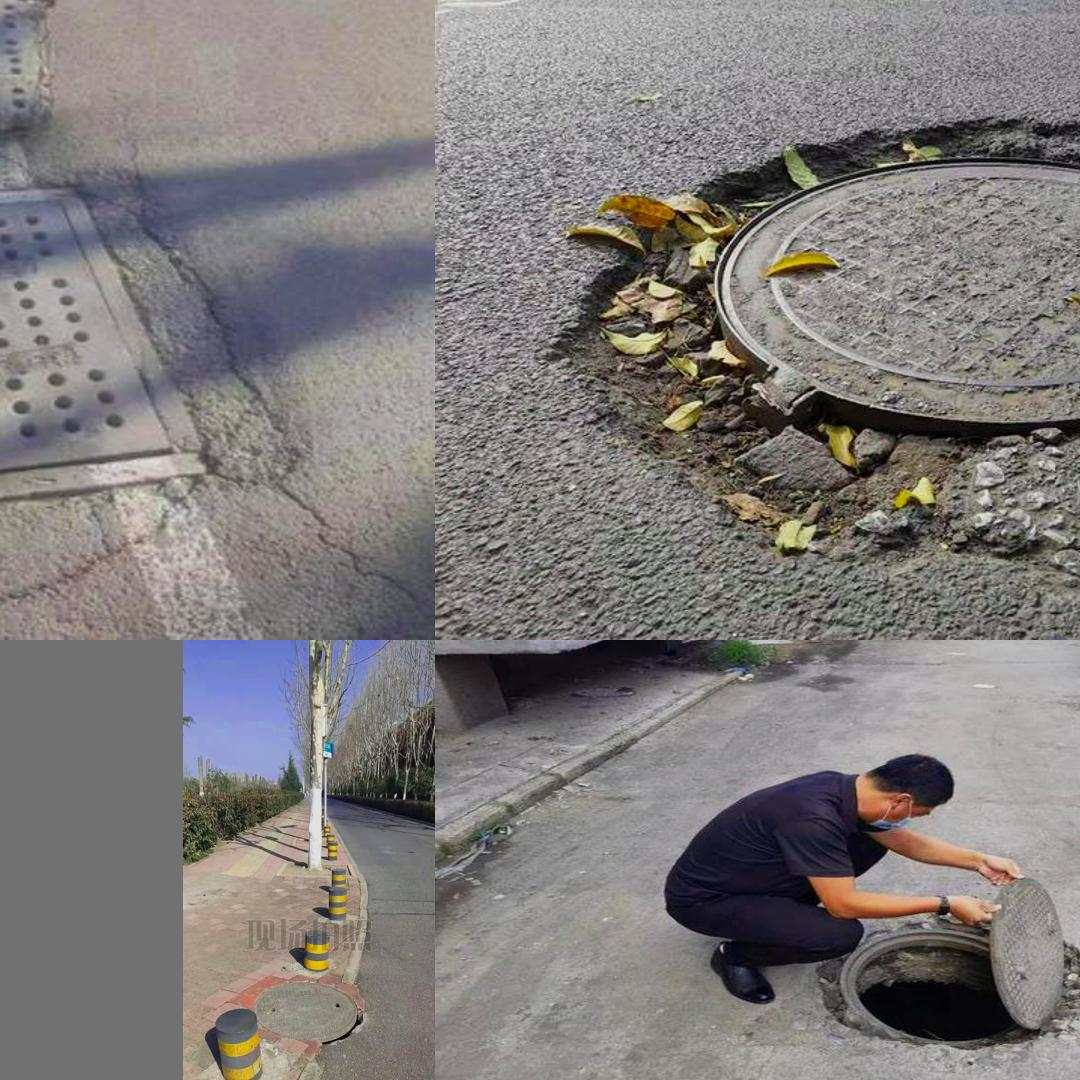circle: (570, 116, 1080, 564), (0, 148, 313, 605), (763, 890, 1080, 1066), (251, 977, 365, 1049)
